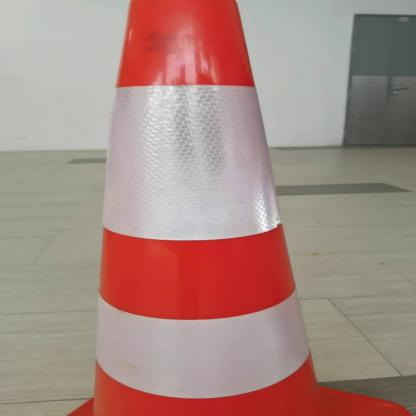cone: (26, 0, 415, 416)
